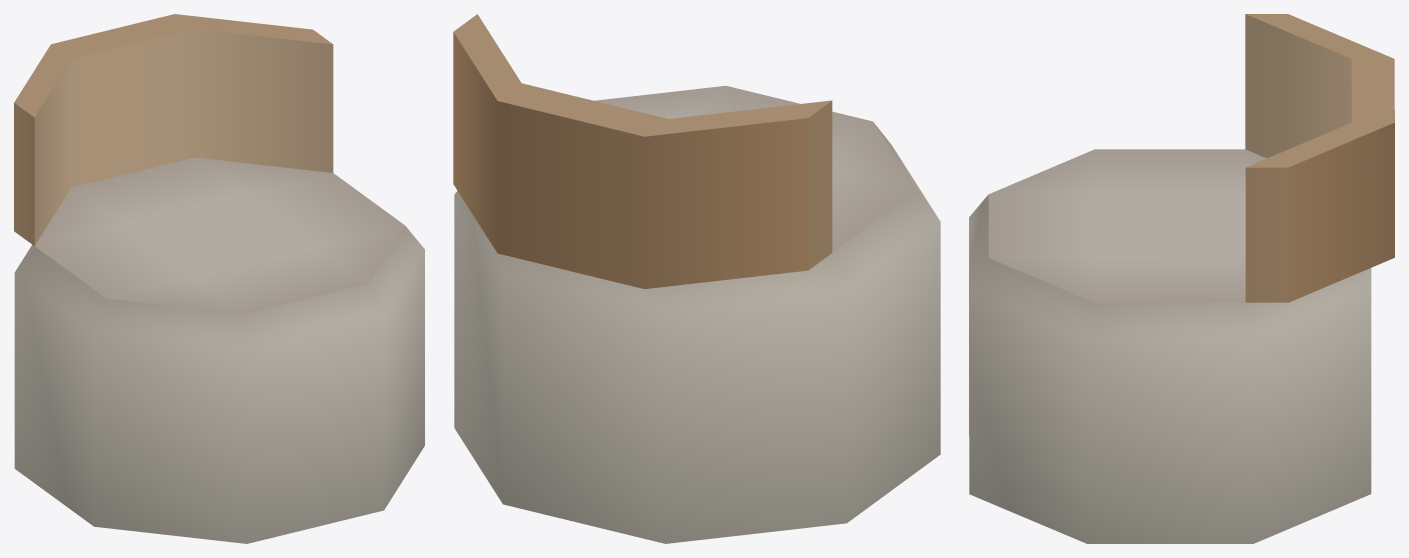
File: modern_chair.glb
3 views of the same model, side by side, from view 1: azimuth 30°, elevation 25°; view 2: azimuth 150°, elevation 25°; view 3: azimuth 270°, elevation 25° (orthographic). The views are drawn at different scales.
Parts seen in each view (by area): view 1: chair_modern; view 2: chair_modern; view 3: chair_modern.
Boxes of the visible parts, left/top/right/bottom form: chair_modern: left=14, top=14, right=424, bottom=543; chair_modern: left=453, top=14, right=940, bottom=543; chair_modern: left=969, top=14, right=1394, bottom=543.
Size of the model in its own units: 0.6366 by 0.6431 by 0.6739.
